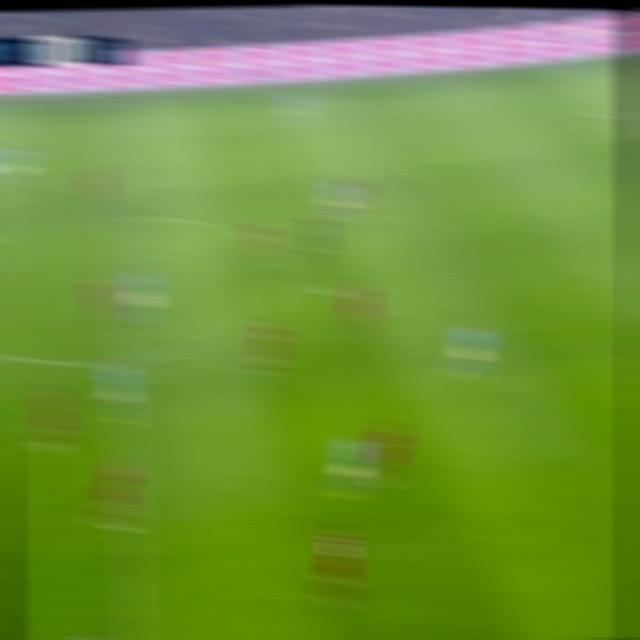bigarea_top_inner: (586, 105, 617, 130)
halfcircle_bottom: (99, 348, 142, 379)
halfcircle_top: (92, 199, 133, 236)
midline_top_intersection: (90, 88, 124, 118)
